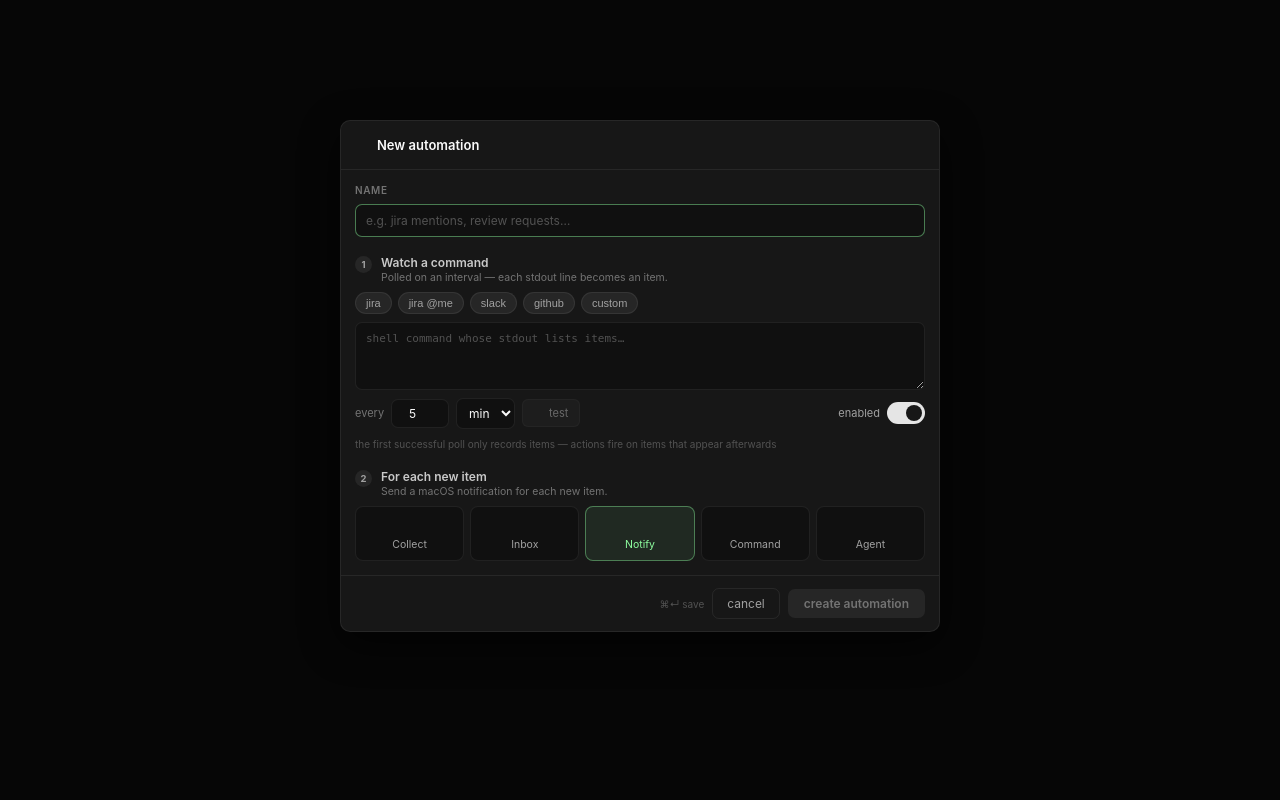
Test: AutomationEditor › requires a command template for the command action
Click the button with class "fanout-kind" showing "github" at (549, 303), box [523, 292, 575, 314]
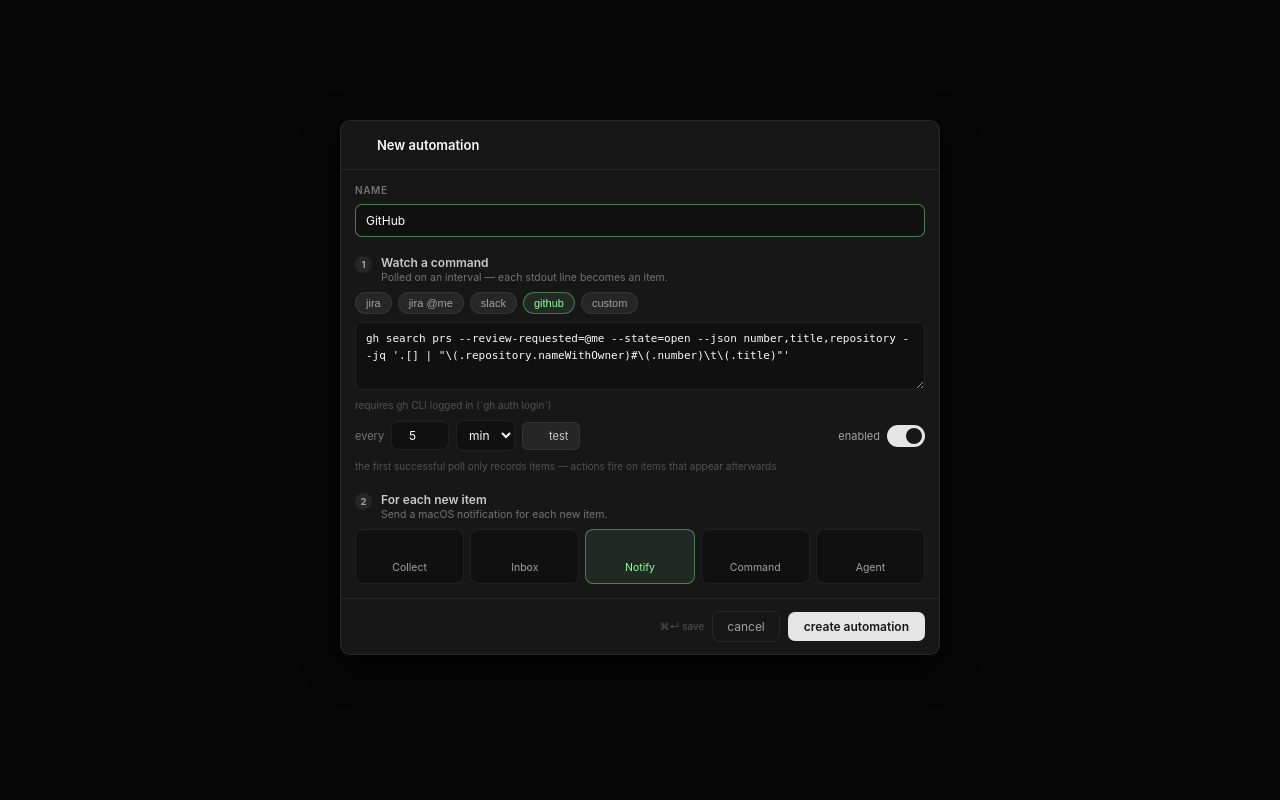
Click the button with class "autoedit-action" showing "Command" at (755, 556), box [701, 528, 810, 584]
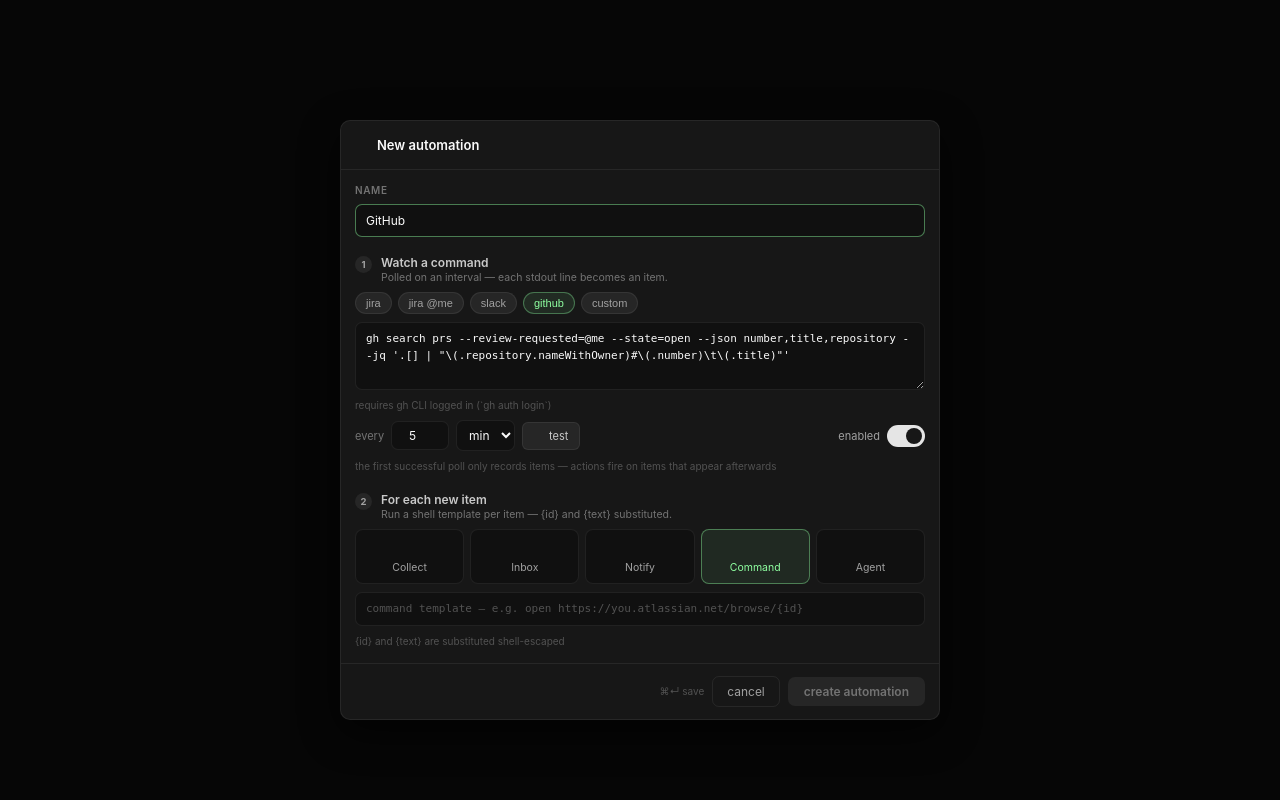
Expected: the button with class "autoedit-save" is disabled, [788, 676, 925, 706]
